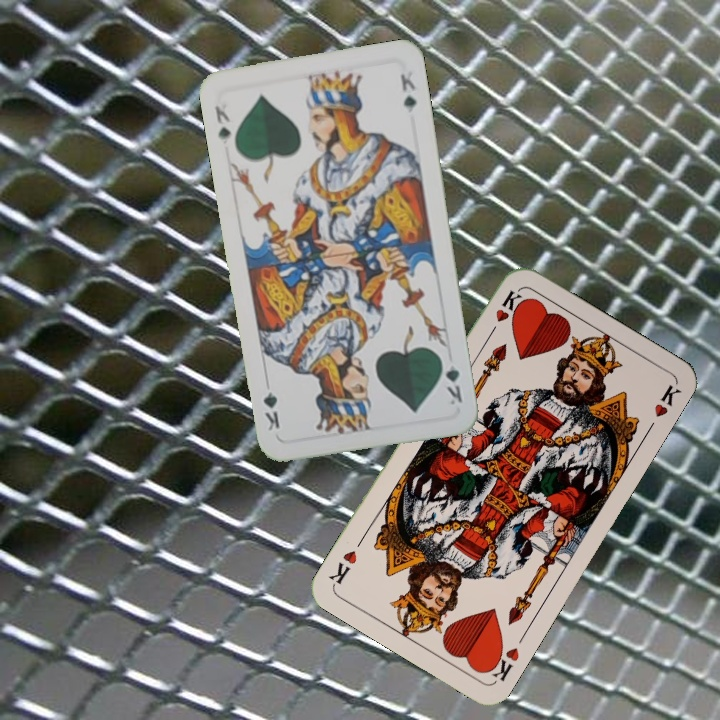GK: (436, 352, 465, 408), (211, 101, 233, 142)
HK: (484, 286, 525, 340), (482, 640, 522, 684)
